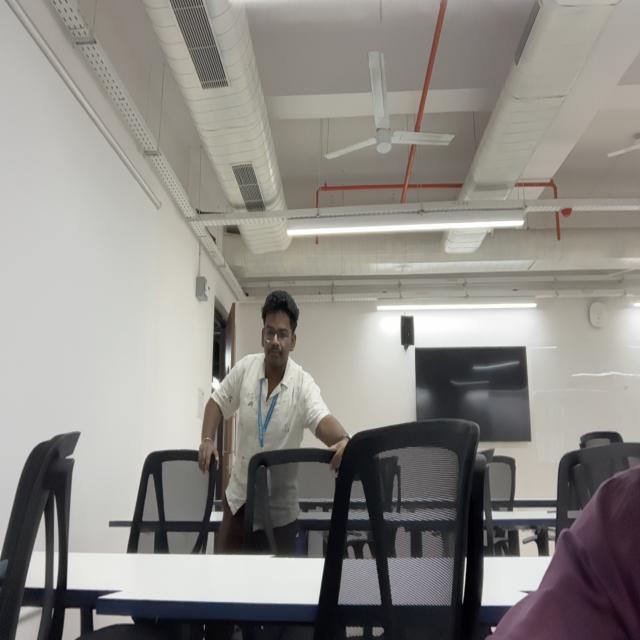sai: (260, 289, 298, 373)
